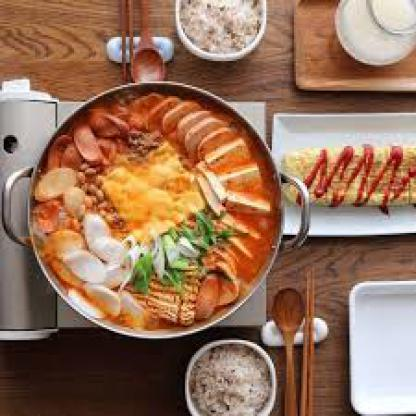budaejjigae: (35, 89, 274, 331)
rice ball: (190, 342, 278, 414), (172, 2, 266, 61)
